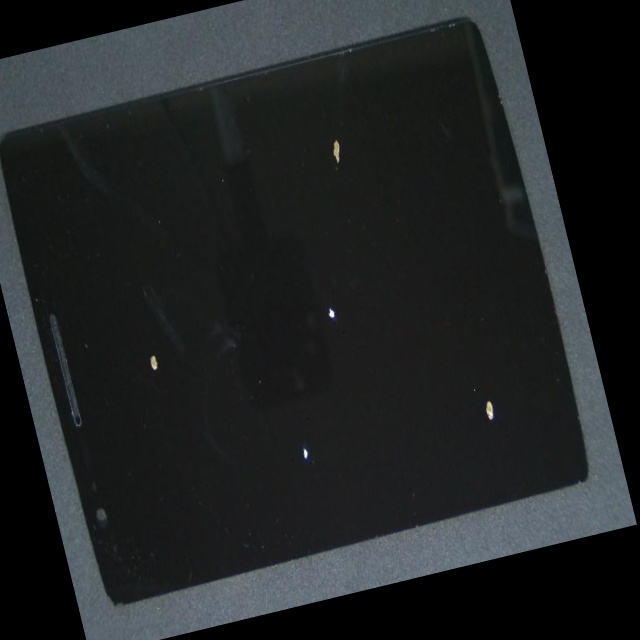stain: (216, 111, 637, 602), (107, 96, 517, 526), (104, 215, 462, 633), (121, 26, 537, 320), (51, 207, 255, 591)
